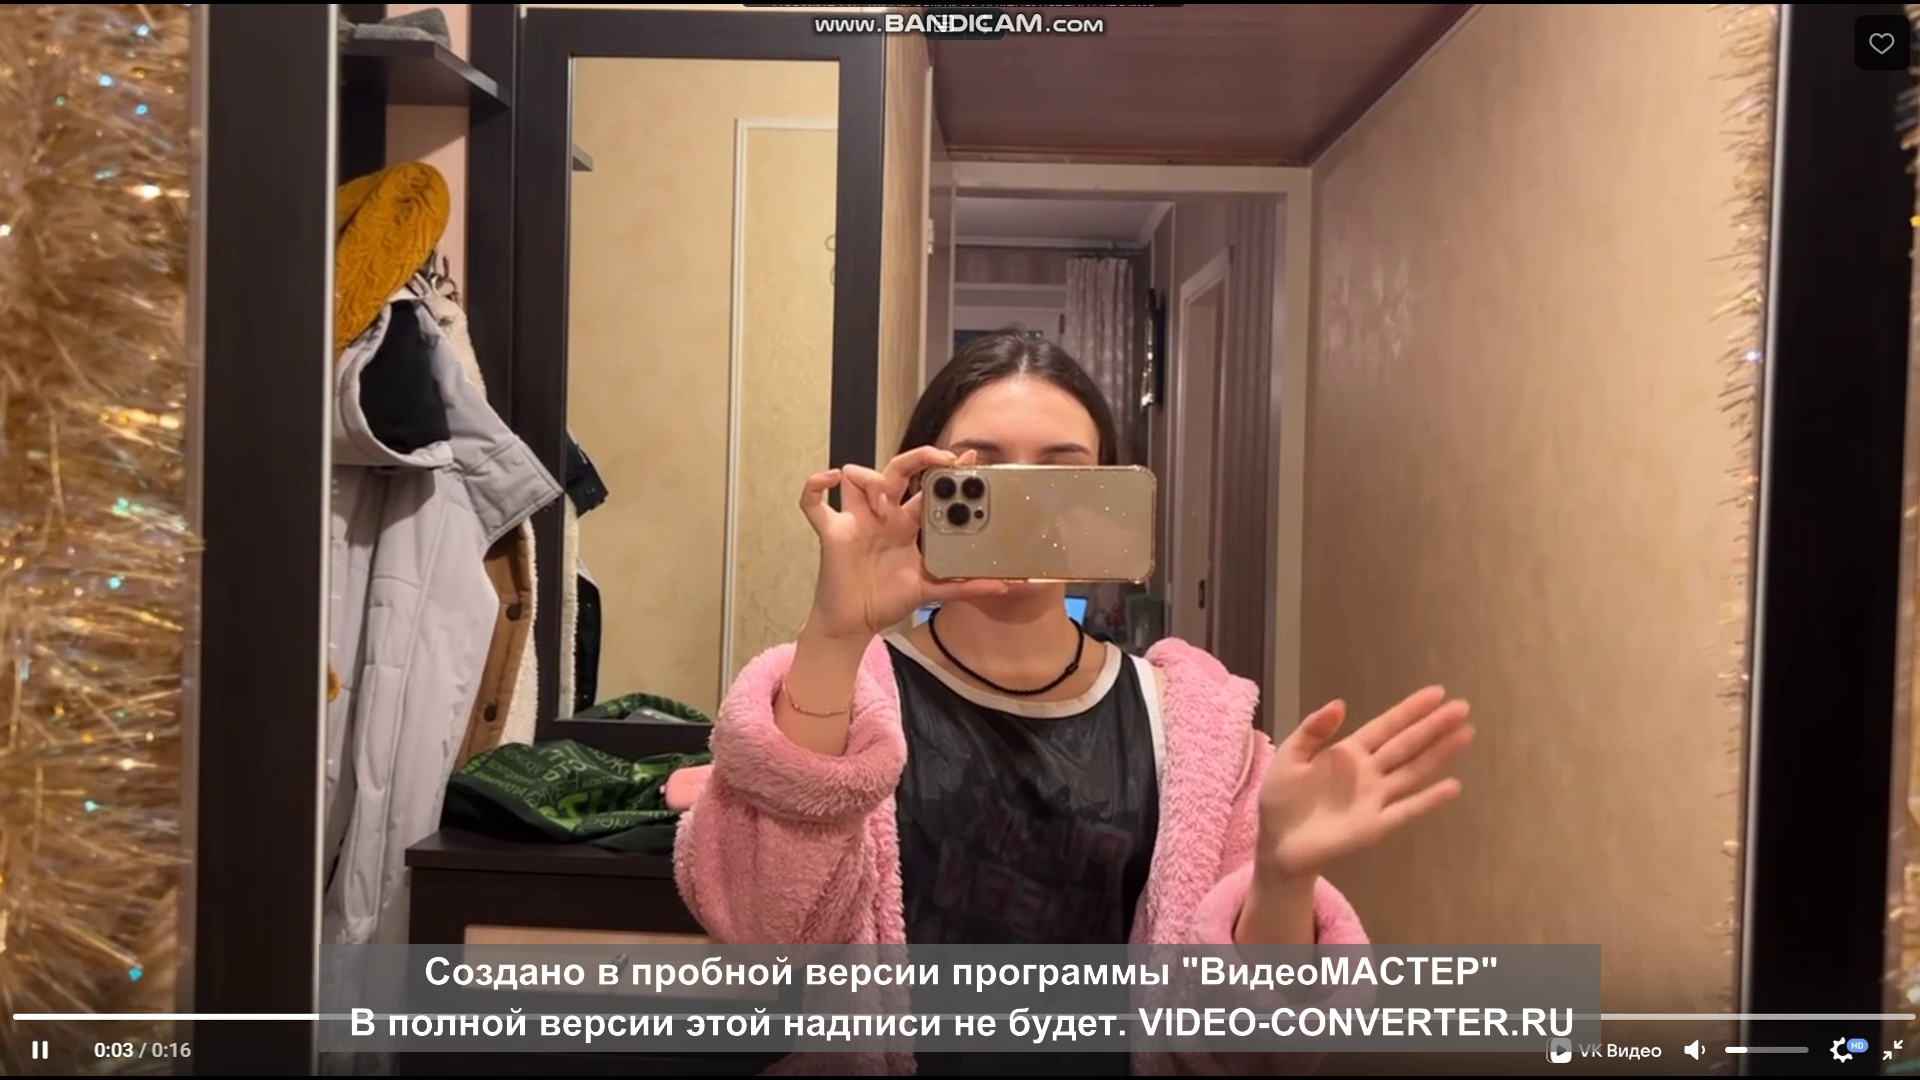Ладонь: (1255, 682, 1478, 877)
